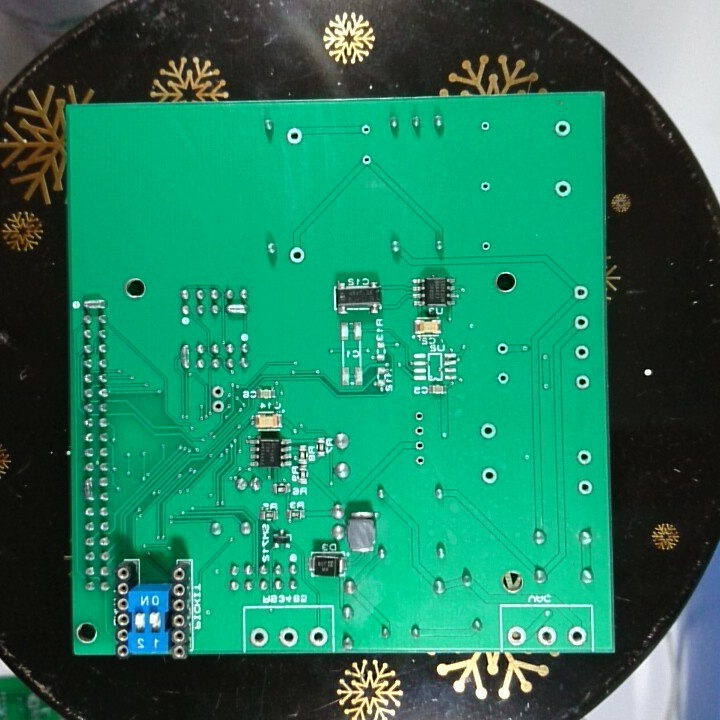F: (305, 623, 330, 650), (505, 623, 529, 648), (277, 625, 301, 649), (248, 624, 271, 649), (565, 623, 588, 647), (535, 623, 558, 647), (552, 178, 574, 200), (286, 244, 307, 266), (283, 124, 304, 146), (479, 464, 499, 487), (552, 119, 572, 140), (574, 447, 594, 468), (571, 312, 591, 332), (571, 343, 591, 363), (477, 420, 497, 440), (571, 283, 590, 302), (573, 373, 592, 392), (576, 478, 594, 498), (494, 369, 511, 387), (209, 398, 226, 415), (210, 383, 226, 400), (495, 340, 510, 358), (477, 179, 494, 194), (411, 438, 428, 453), (412, 453, 428, 468), (359, 121, 373, 138), (359, 153, 375, 167), (478, 118, 492, 134), (479, 239, 492, 254), (412, 408, 425, 423), (412, 424, 426, 437)
P: (222, 300, 250, 318), (80, 296, 108, 312), (80, 475, 96, 503), (179, 340, 192, 371)
